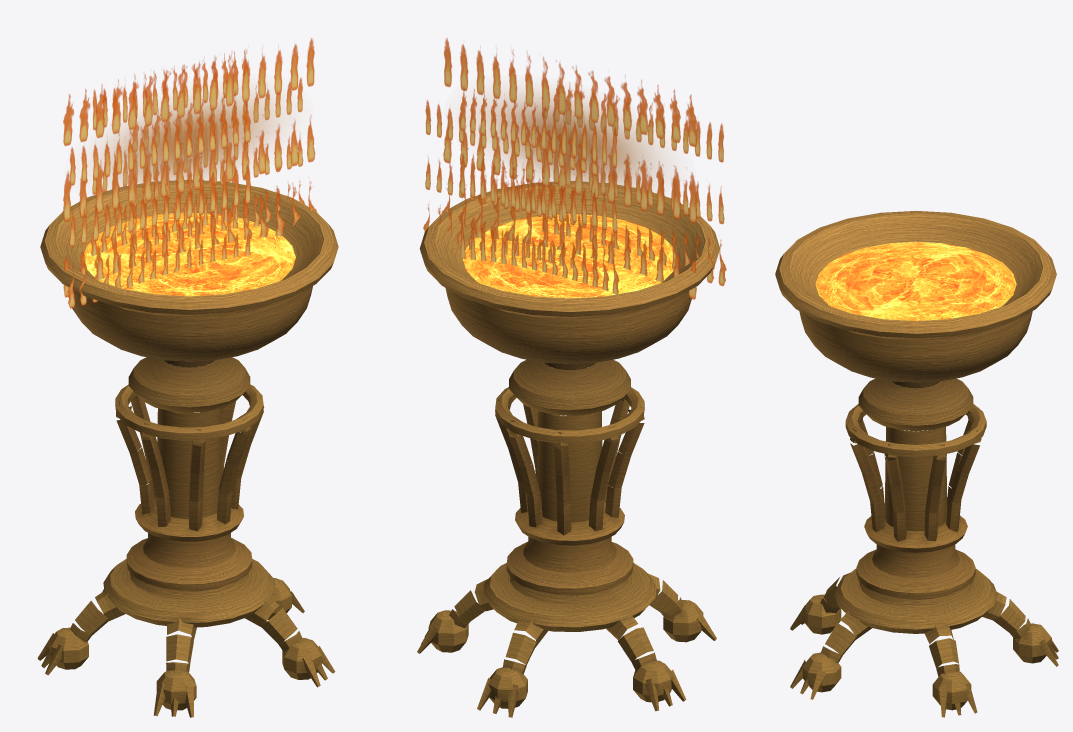
Rendered from mm7_deco_dec61.glb.
3 renders of one model, left to right at view 1: azimuth 30°, elevation 25°; view 2: azimuth 150°, elevation 25°; view 3: azimuth 270°, elevation 25°, orthographic. The views are drawn at different scales.
Parts seen in each view (by area): view 1: Beacon; view 2: Beacon; view 3: Beacon.
Boxes of the visible parts, x1,y1,x2,y2 form: Beacon: (37, 38, 338, 717); Beacon: (417, 38, 726, 717); Beacon: (775, 211, 1058, 717).
Size of the model in its own units: 1.49 by 2.44 by 1.1.
Materials: 7 (7 with a texture image).
